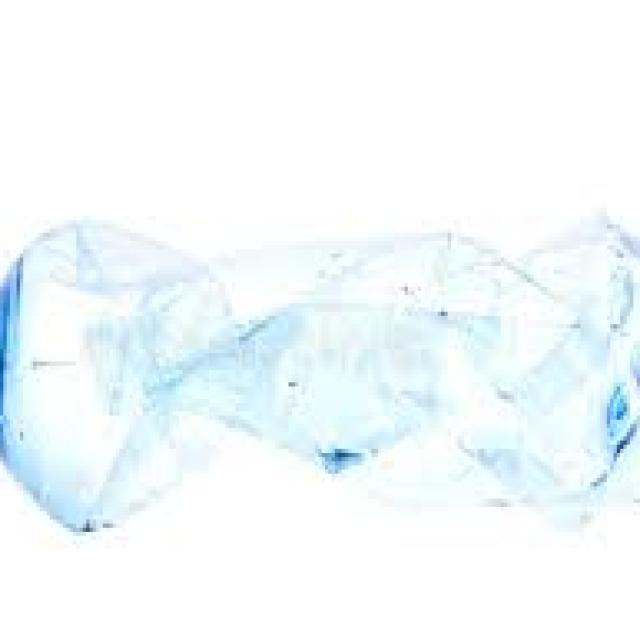organic: (7, 195, 628, 574)
